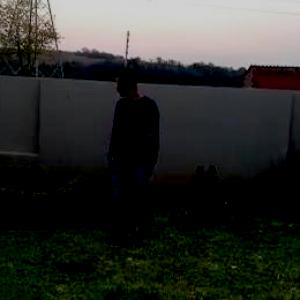follow: (105, 65, 159, 255)
